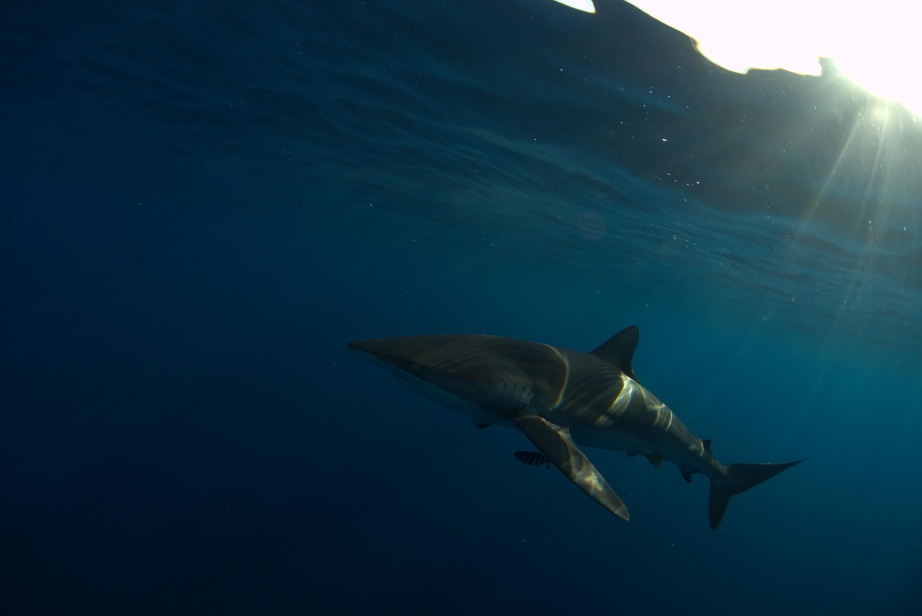Sedoso: (302, 292, 821, 554)
